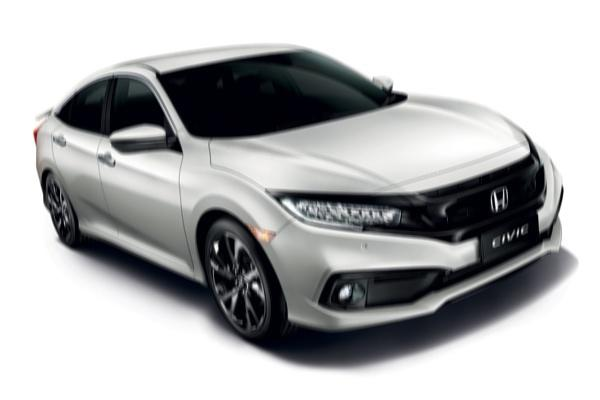Car hood: (208, 88, 540, 226)
Driver-s door - -F-R-: (95, 63, 197, 280)
Fender - -F-R-: (171, 128, 297, 279)
Fender - -R-R-: (35, 103, 68, 198)
Front bumper: (264, 214, 574, 342)
Headlight - -R-: (264, 187, 434, 239)
Passenger-s door - -R-R-: (47, 62, 120, 241)
Side bumper - -R-: (68, 211, 208, 296)
Side mirror - -L-: (369, 75, 398, 94)
Side mirror - -R-: (108, 123, 170, 160)
